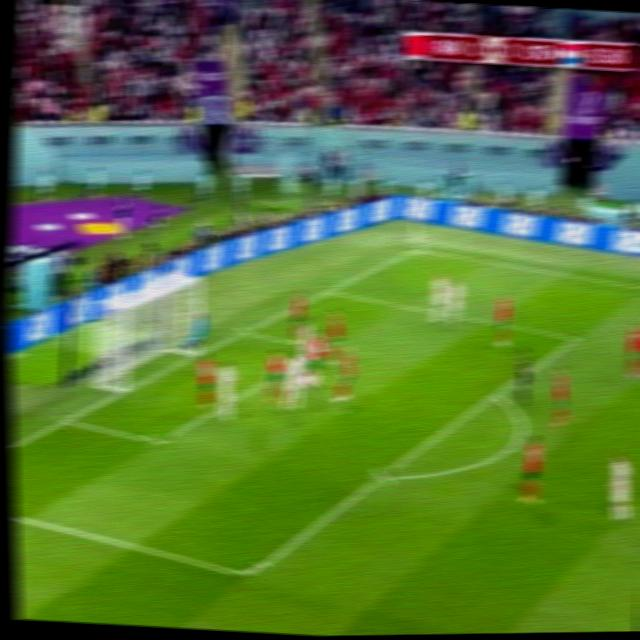bigarea_bottom_inner: (232, 555, 266, 592)
bigarea_top_inner: (565, 326, 588, 348)
bigarea_top_outter: (317, 281, 340, 299)
bottom_arc_area_intersection: (369, 462, 395, 490)
corner: (405, 240, 429, 257)
smallarea_bottom_inner: (143, 424, 173, 457)
smallarea_bottom_outter: (53, 407, 80, 432)
smallarea_top_outter: (234, 319, 257, 341)
top_arc_area_intersection: (484, 382, 508, 405)
